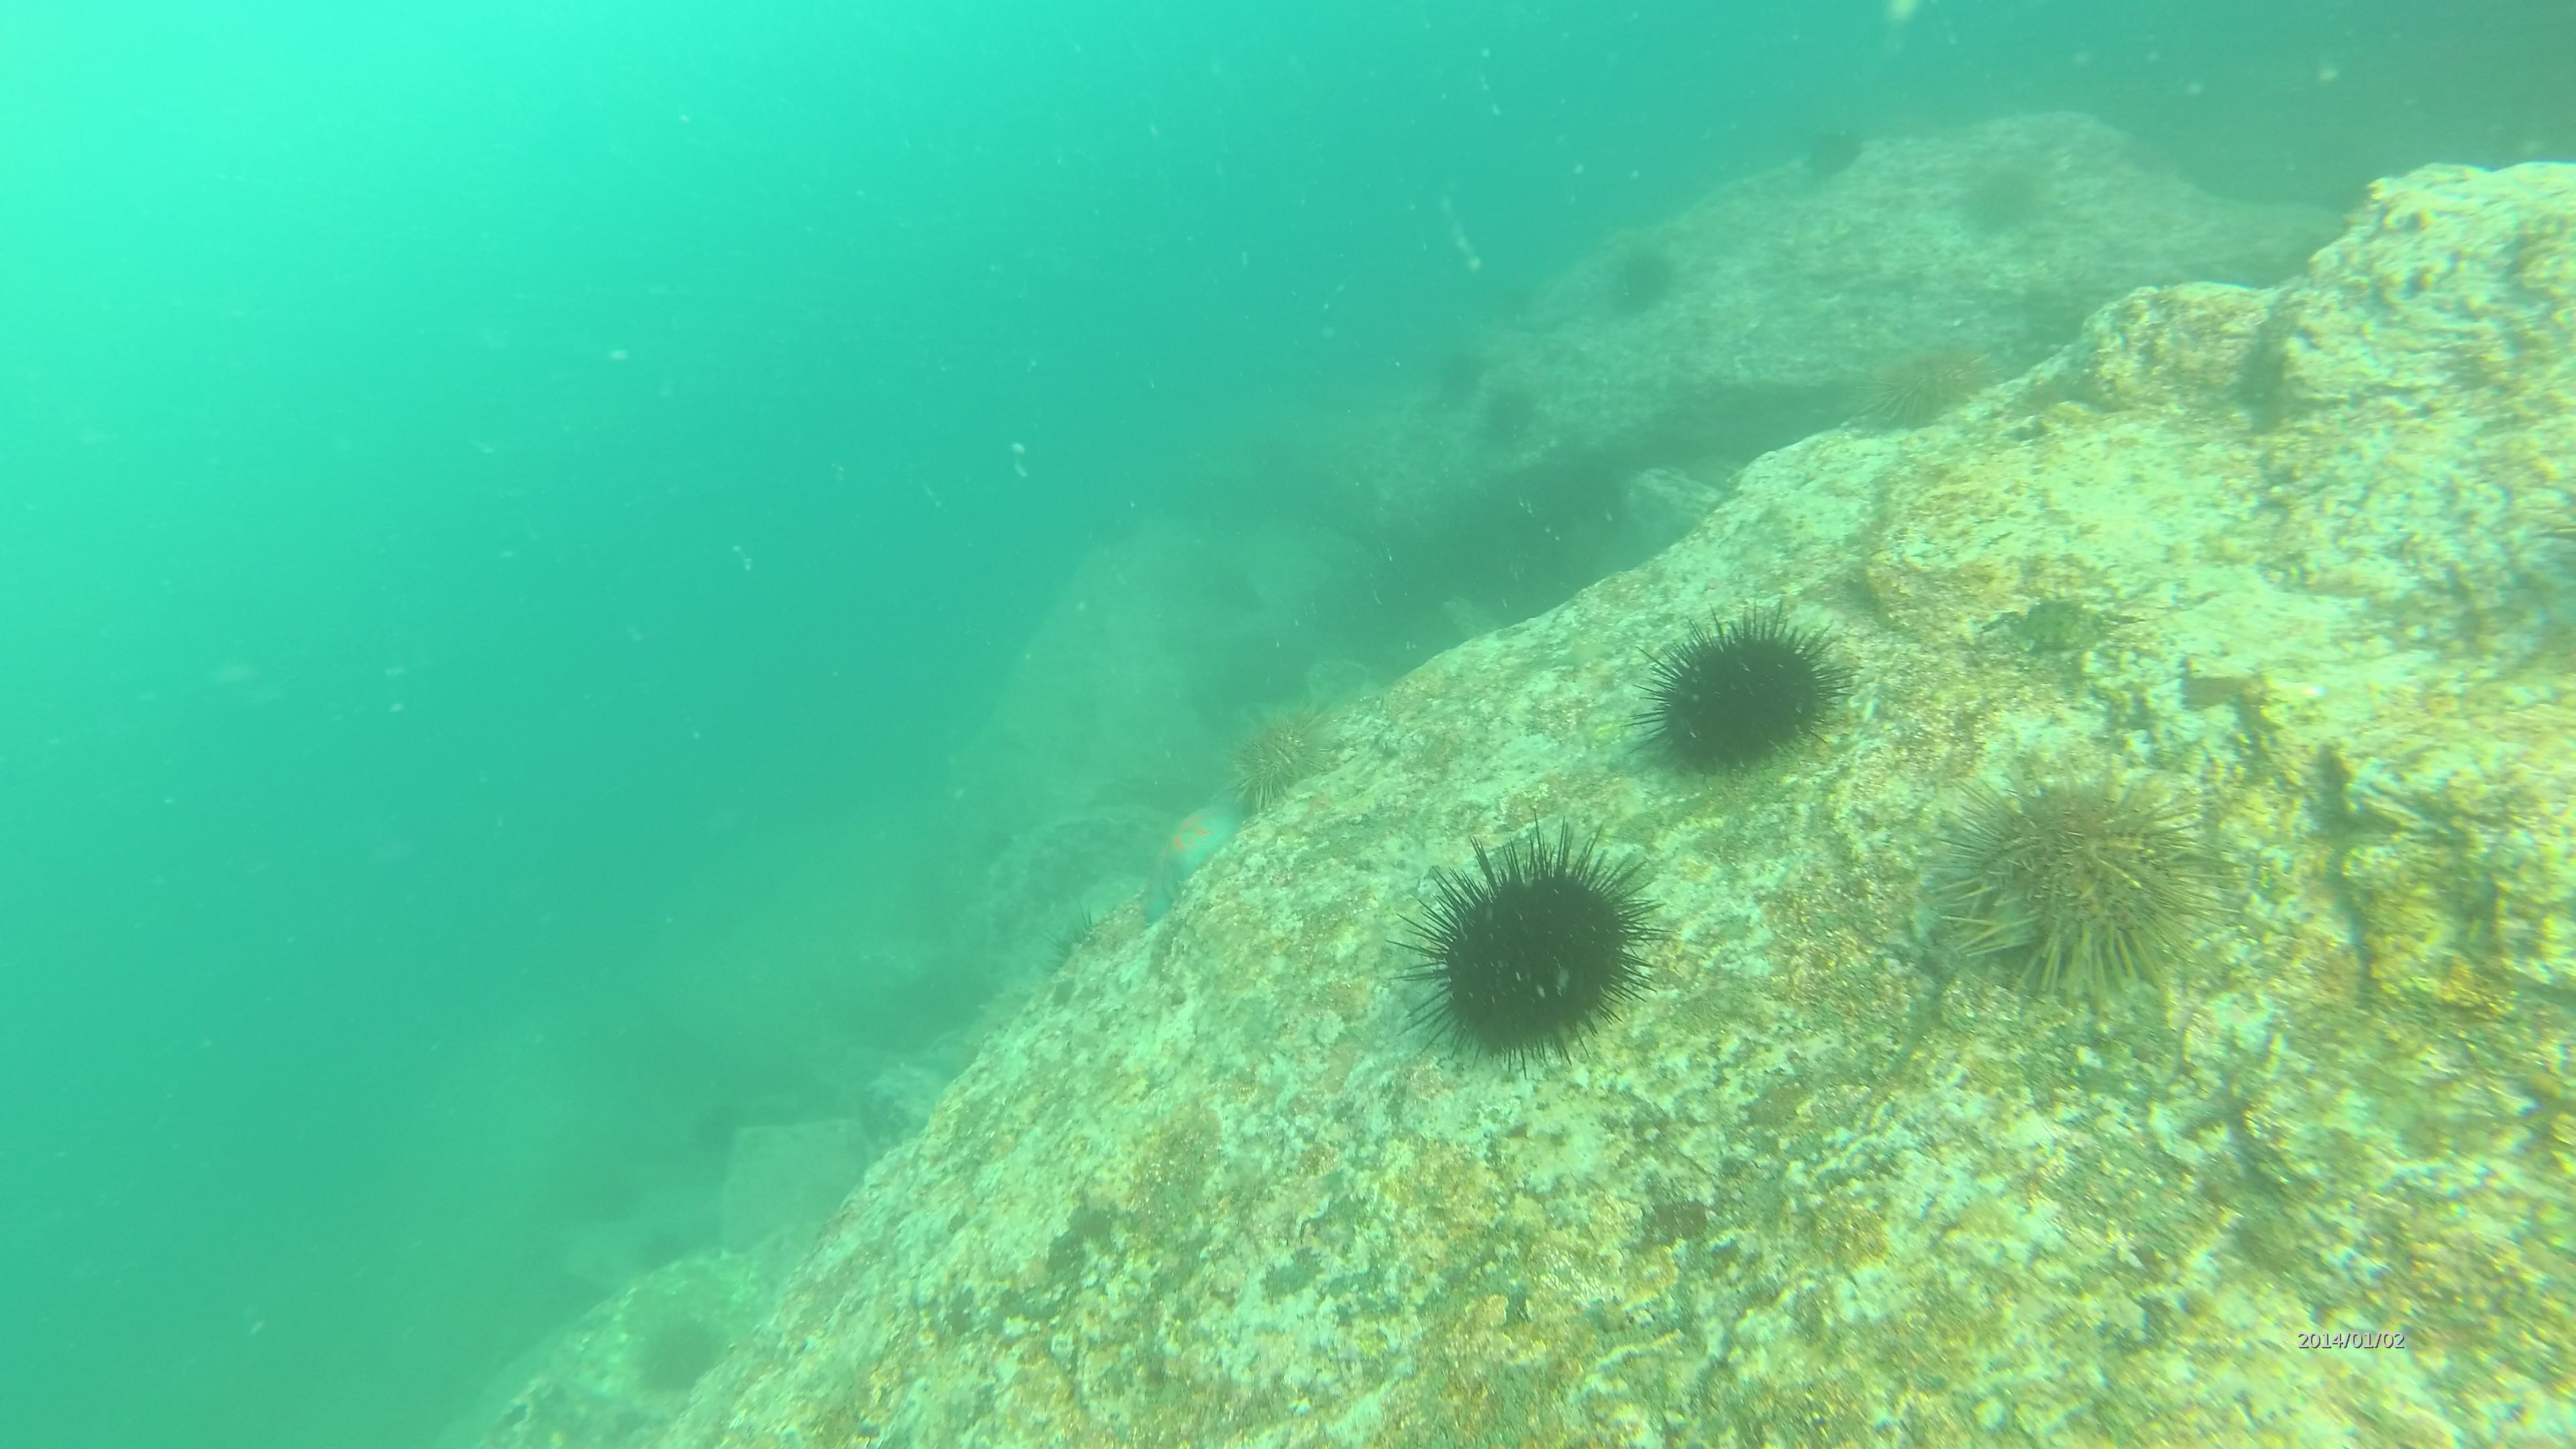echinus: (1394, 812, 1675, 1074), (1934, 770, 2199, 1007), (1629, 593, 1858, 794), (1233, 694, 1348, 816), (1874, 349, 1999, 437), (630, 1307, 738, 1399), (1953, 175, 2051, 234), (1610, 242, 1681, 320), (1805, 111, 1875, 184), (1431, 338, 1493, 407), (1488, 387, 1543, 448)
starfish: (1143, 801, 1244, 936)
